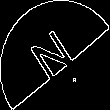N_SE: (28, 22, 82, 88)
